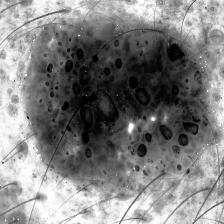Benign Marking or Mole: (26, 24, 206, 179)
